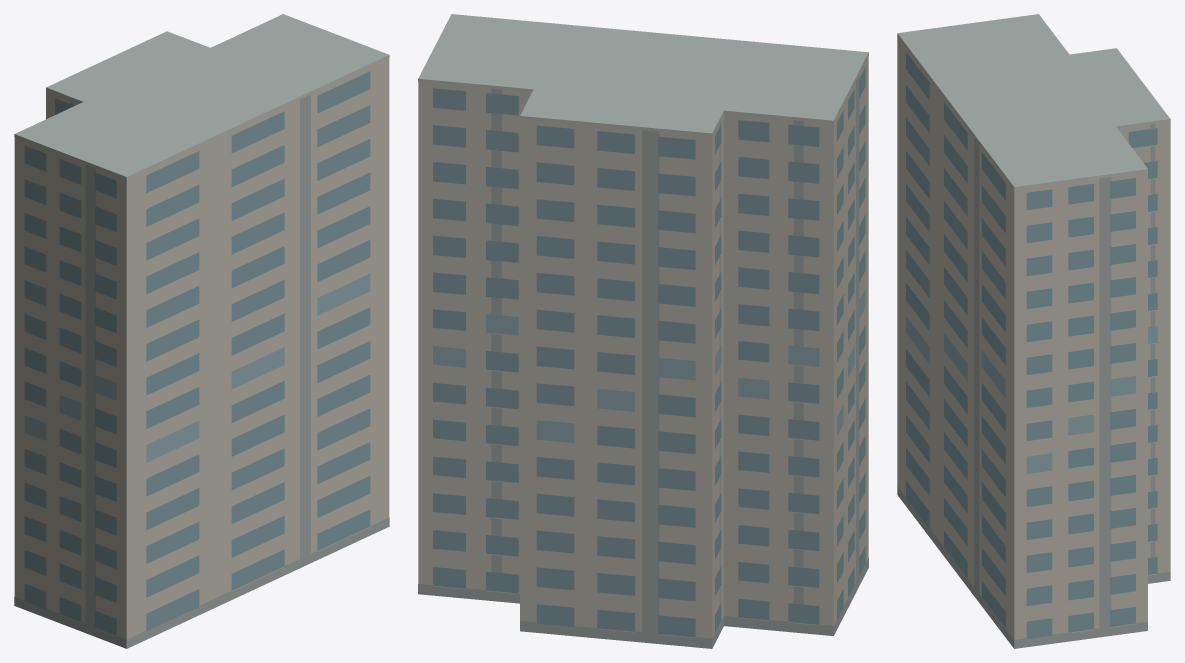
The model's file is residential-36b19a09-dbea-4caf-a5ba-399edec693c8.glb.
The picture shows the model from 3 angles, left to right: view 1: azimuth 30°, elevation 25°; view 2: azimuth 150°, elevation 25°; view 3: azimuth 270°, elevation 25°; orthographic projection. The views are drawn at different scales.
Visible parts, largest first — view 1: residential-36b19a09-dbea-4caf-a5ba-399edec693c8.tmp; view 2: residential-36b19a09-dbea-4caf-a5ba-399edec693c8.tmp; view 3: residential-36b19a09-dbea-4caf-a5ba-399edec693c8.tmp.
Boxes of the visible parts, x1,y1,x2,y2 form: residential-36b19a09-dbea-4caf-a5ba-399edec693c8.tmp: [14, 14, 389, 648]; residential-36b19a09-dbea-4caf-a5ba-399edec693c8.tmp: [418, 14, 868, 648]; residential-36b19a09-dbea-4caf-a5ba-399edec693c8.tmp: [897, 14, 1170, 648].
Bounding box in the file's own units: 31.36 × 39 × 20.91.
